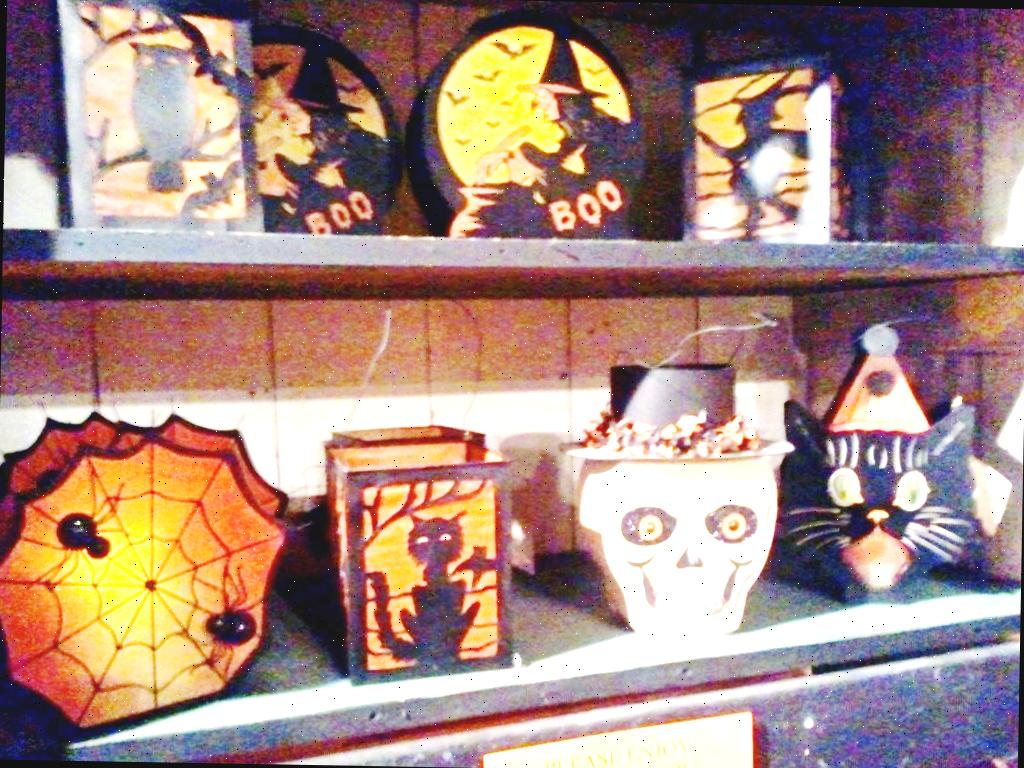Owl: (126, 42, 203, 198)
